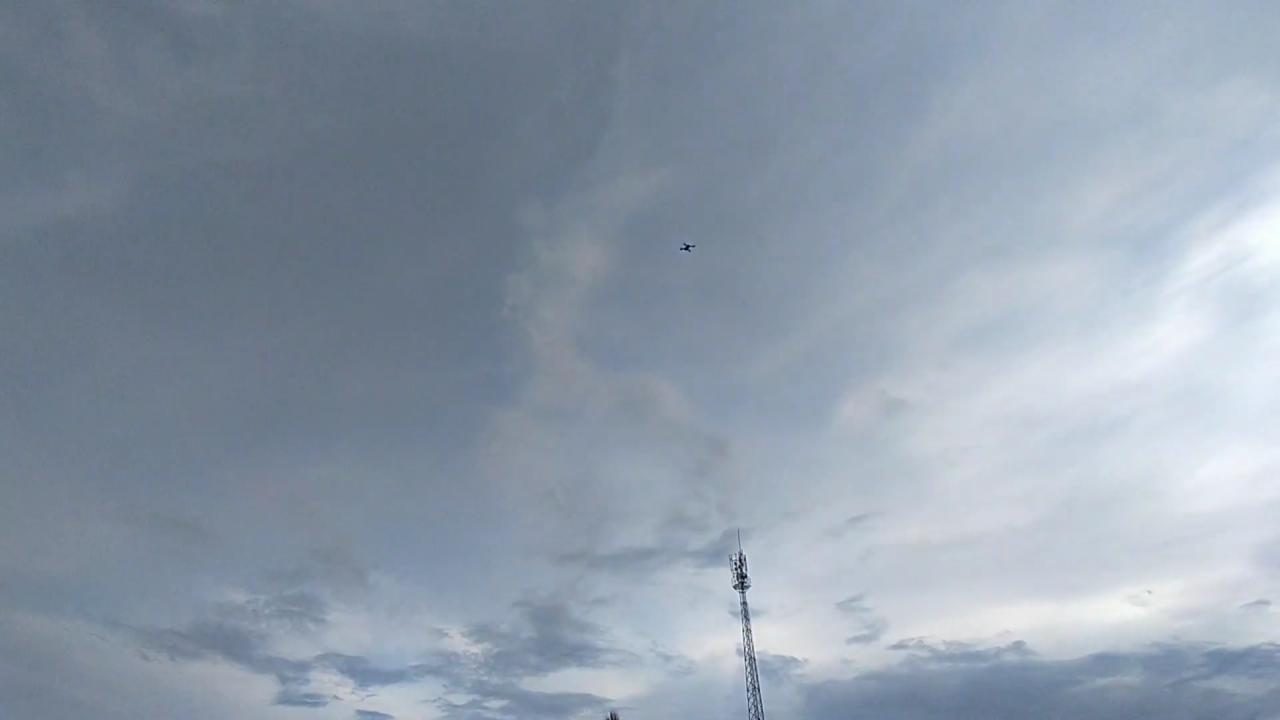Drone: (665, 230, 707, 264)
